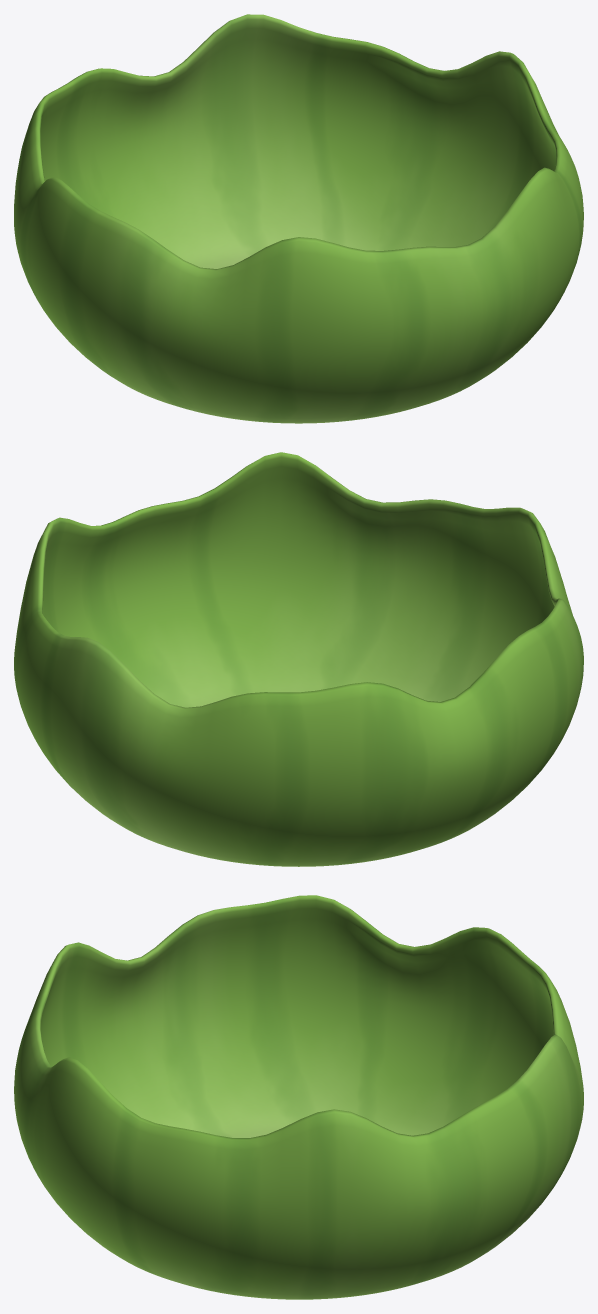
File: wrap.glb
The picture shows the model from 3 angles, top to bottom: view 1: azimuth 30°, elevation 25°; view 2: azimuth 150°, elevation 25°; view 3: azimuth 270°, elevation 25°; orthographic projection.
Visible parts, largest first — view 1: wrap; view 2: wrap; view 3: wrap.
Boxes of the visible parts, left/top/right/bottom form: wrap: left=14, top=14, right=583, bottom=423; wrap: left=14, top=452, right=583, bottom=866; wrap: left=14, top=895, right=583, bottom=1299.
Size of the model in its own units: 1.2 by 0.5087 by 1.19.
1 material, 1 textured.
